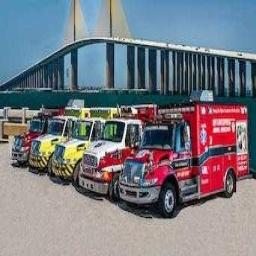ambulance: (119, 97, 248, 216), (77, 105, 155, 199), (51, 108, 116, 181), (29, 108, 89, 171), (12, 109, 63, 164)
